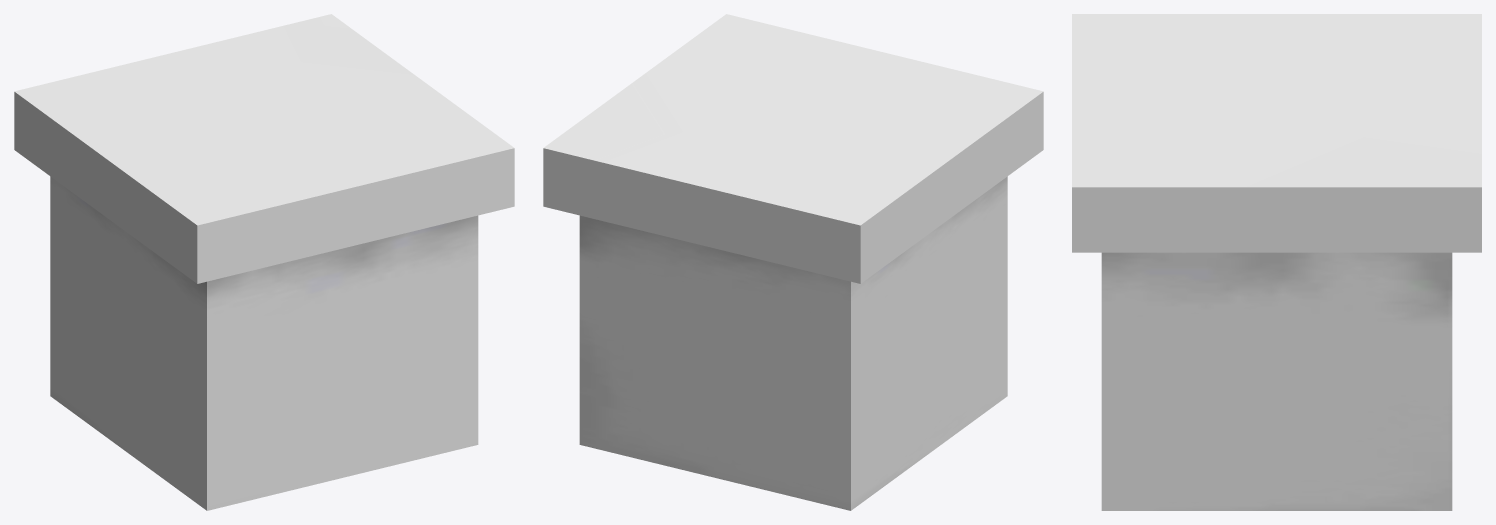
File: 0308_hezi_xinshiniao.glb
The picture shows the model from 3 angles, left to right: view 1: azimuth 30°, elevation 25°; view 2: azimuth 150°, elevation 25°; view 3: azimuth 270°, elevation 25°; orthographic projection. The views are drawn at different scales.
Bounding box in the file's own units: 2.2 × 1.99 × 2.2.
Materials: 1 (1 with a texture image).
